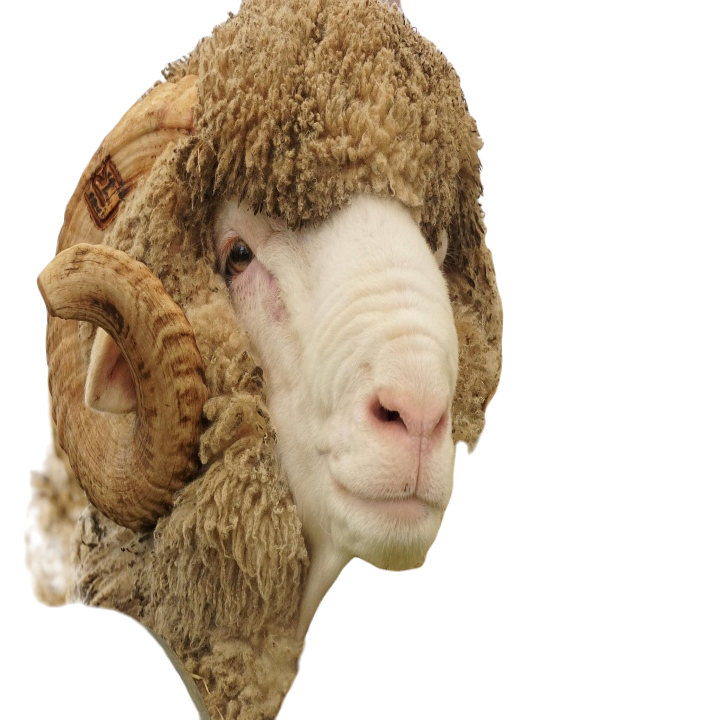Sheep: (30, 0, 509, 720)
